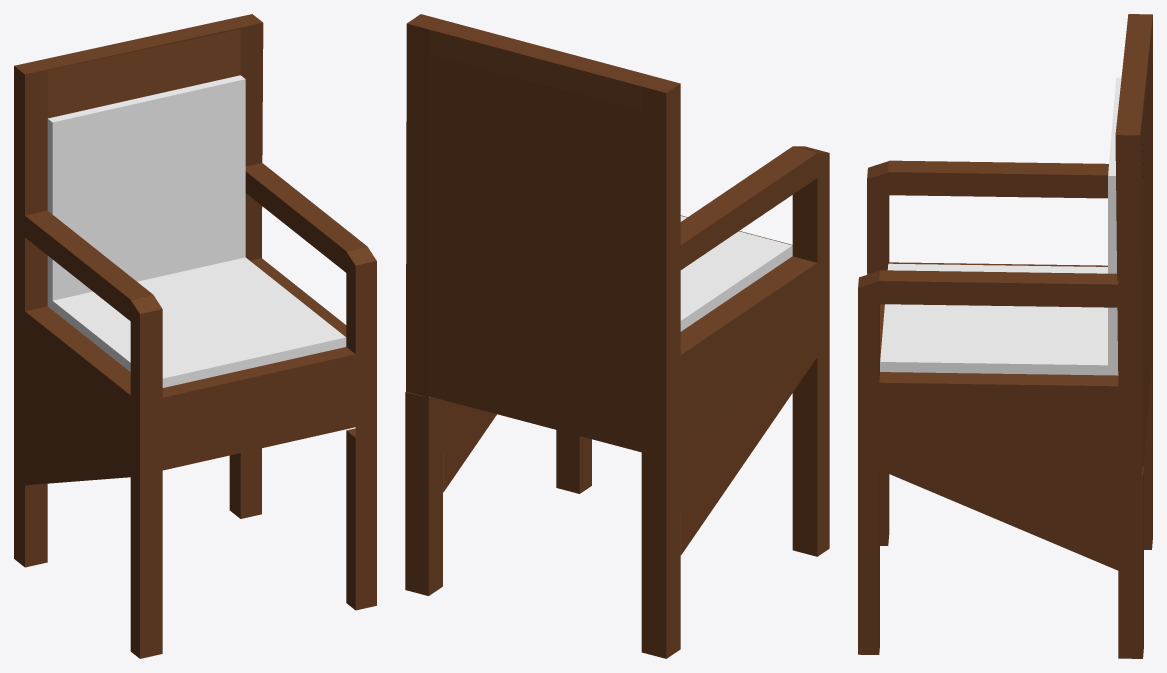
The model's file is Chair.glb.
3 renders of one model, left to right at view 1: azimuth 30°, elevation 25°; view 2: azimuth 150°, elevation 25°; view 3: azimuth 270°, elevation 25°, orthographic. The views are drawn at different scales.
Parts seen in each view (by area): view 1: Cube; view 2: Cube; view 3: Cube.
Part boxes in pixels (x1,y1,x2,y2): Cube: (14, 14, 376, 658); Cube: (405, 14, 829, 658); Cube: (858, 14, 1152, 658).
Bounding box in the file's own units: 2.07 × 4.06 × 2.07.
